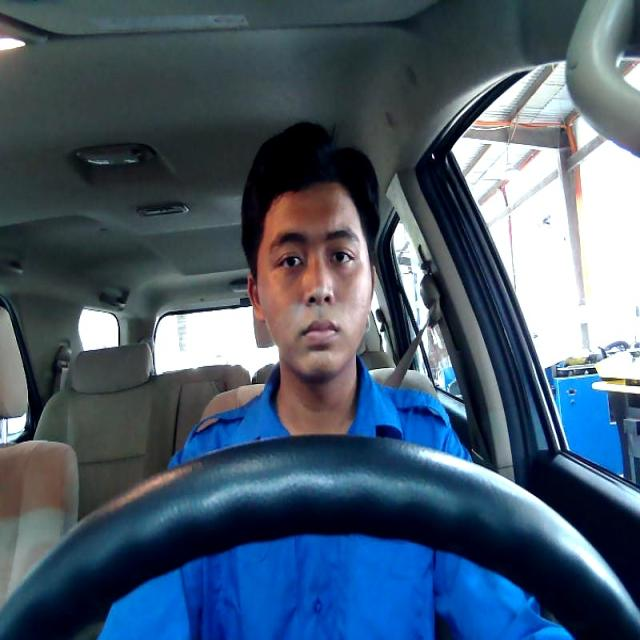focused: (246, 180, 374, 379)
